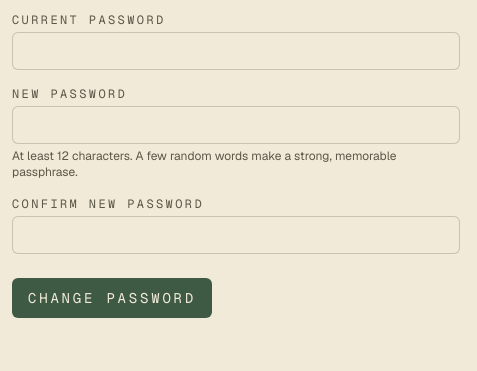
Test case: ChangePasswordForm › confirms success
In the password field labelled "Current password": (236, 51) [12, 32, 460, 70], type "old-password-123"
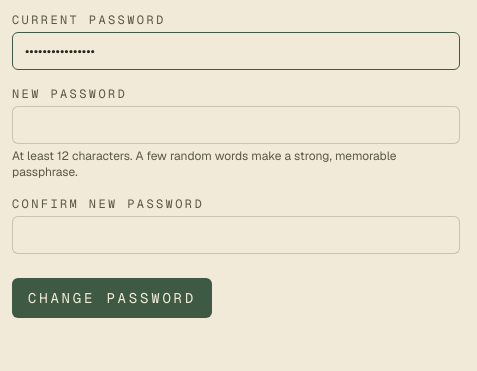
In the password field labelled "New password": (236, 125) [12, 106, 460, 144], type "a-brand-new-passphrase"
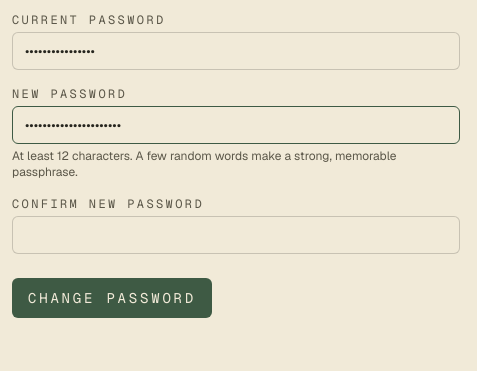
In the password field labelled "Confirm new password": (236, 235) [12, 216, 460, 254], type "a-brand-new-passphrase"
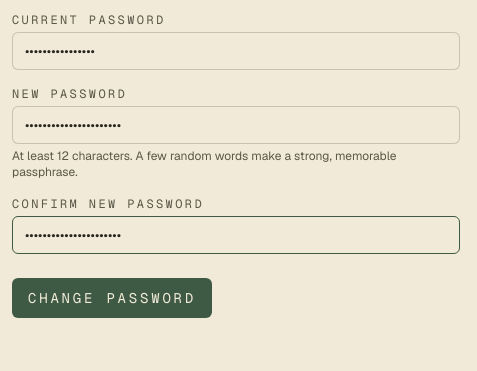
Click the button "Change password": (112, 298) [12, 278, 212, 318]
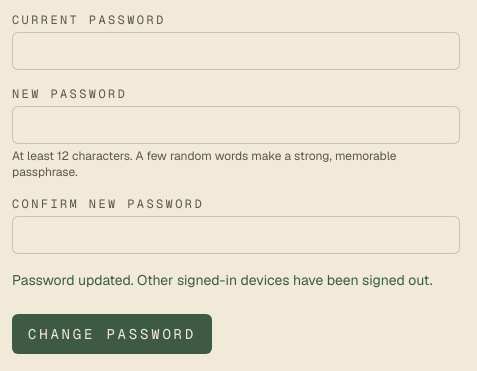
Check: the message shows "Password updated", box [12, 271, 432, 289]
